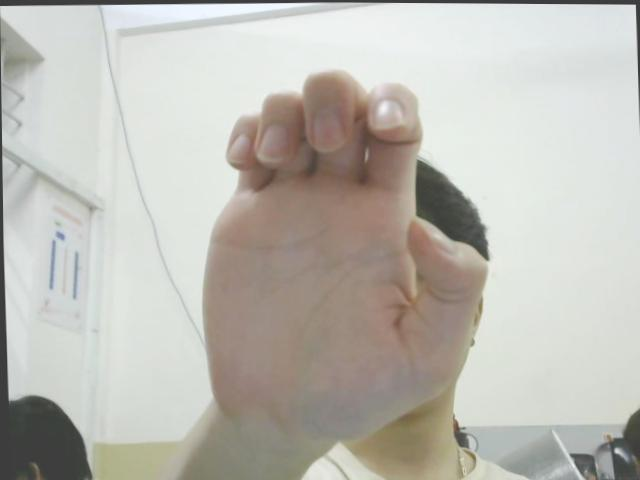E: (189, 60, 493, 434)
